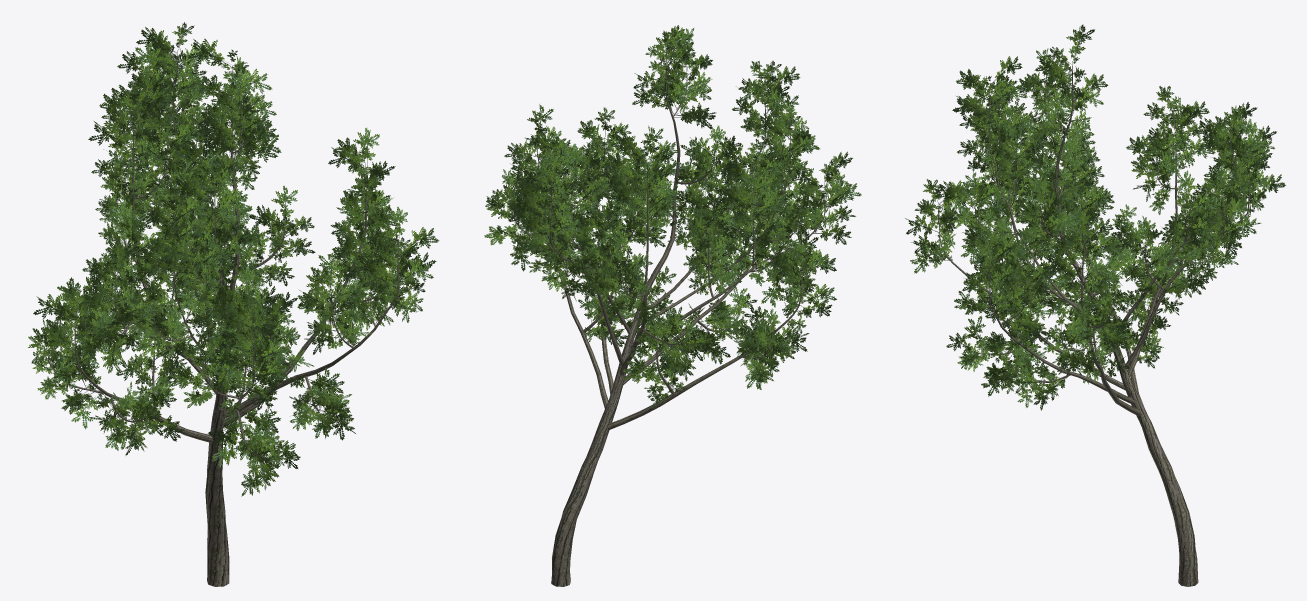
The model's file is ash_small_03.glb.
The picture shows the model from 3 angles, left to right: view 1: azimuth 30°, elevation 25°; view 2: azimuth 150°, elevation 25°; view 3: azimuth 270°, elevation 25°; orthographic projection. The views are drawn at different scales.
Parts seen in each view (by area): view 1: Tree; view 2: Tree; view 3: Tree.
Boxes of the visible parts, x1=… form: Tree: x1=28, y1=22, x2=439, y2=586; Tree: x1=484, y1=25, x2=861, y2=586; Tree: x1=905, y1=24, x2=1285, y2=586.
Bounding box in the file's own units: 31.75 × 48.06 × 32.05.
2 materials, 2 textured.
